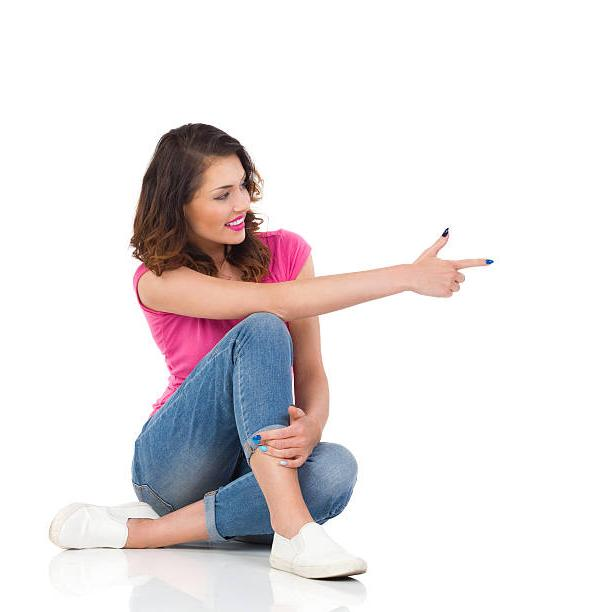short sleeve shirt: (133, 227, 315, 426)
trousers: (126, 309, 361, 546)
